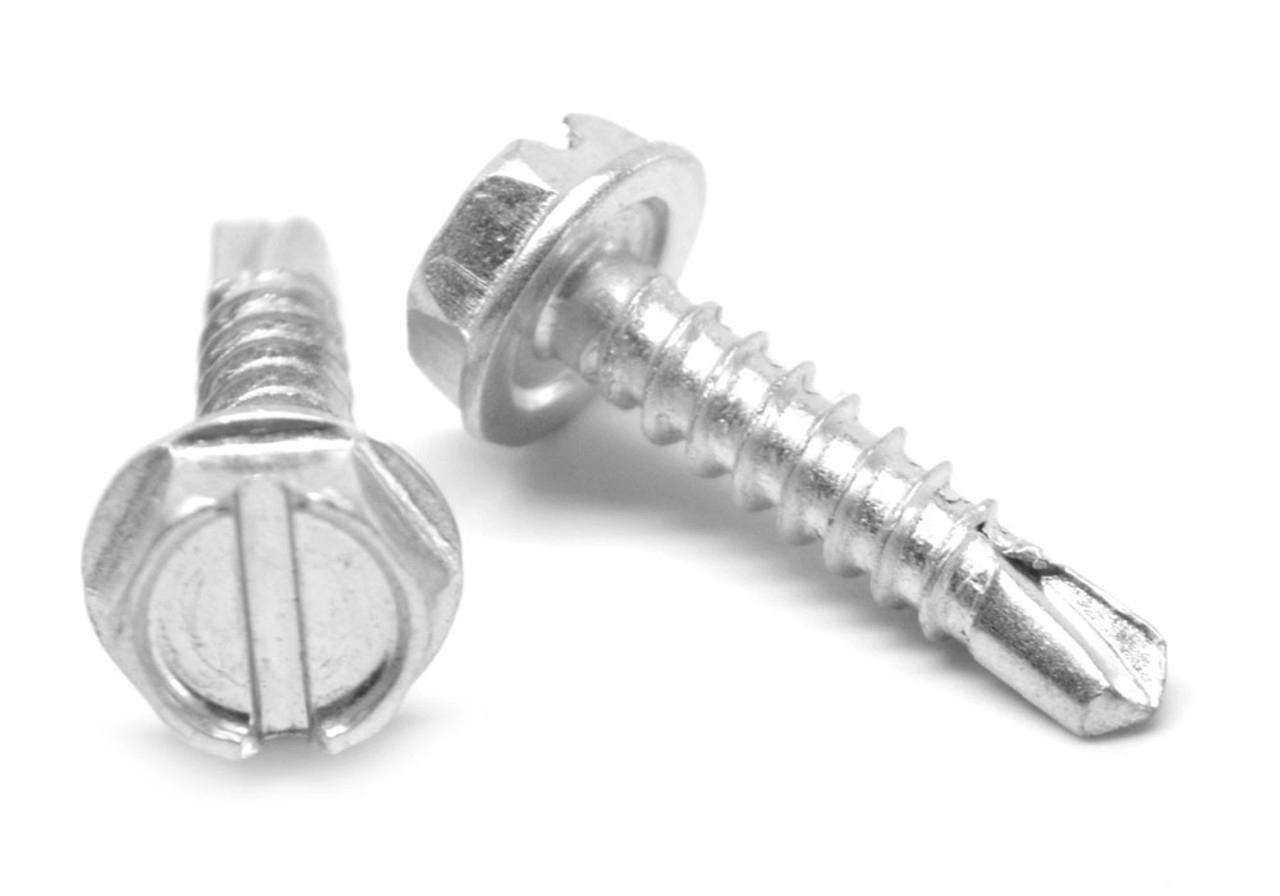screw: (88, 418, 451, 771)
